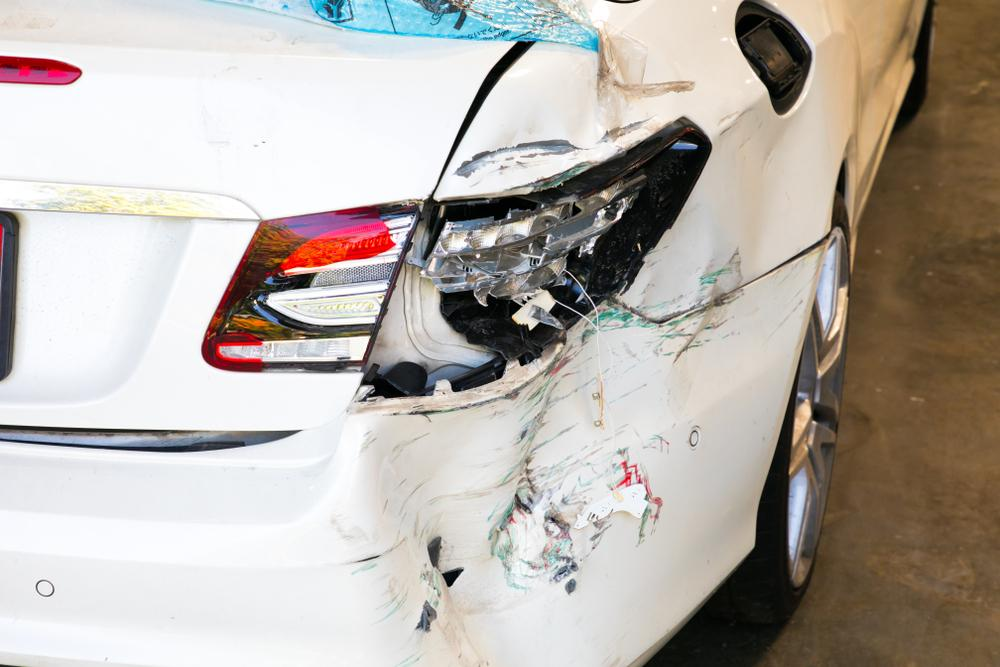dent: (349, 307, 686, 667), (629, 95, 823, 314), (475, 32, 675, 186)
lamp broken: (202, 120, 711, 401)
